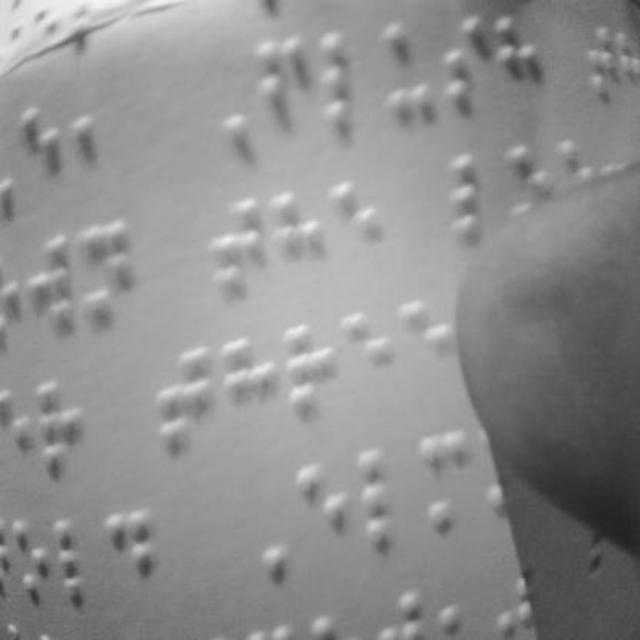braiile: (72, 62, 128, 192), (105, 501, 165, 619), (21, 222, 81, 338), (83, 208, 141, 328), (52, 364, 112, 480), (270, 181, 326, 299), (359, 443, 419, 552), (159, 342, 217, 454), (1, 498, 56, 616), (332, 172, 386, 292), (254, 28, 310, 142), (282, 322, 342, 428), (424, 428, 480, 540), (222, 326, 274, 446), (451, 140, 511, 244), (212, 186, 266, 298), (292, 452, 346, 564), (381, 20, 437, 126), (320, 27, 376, 131), (440, 12, 492, 118), (344, 303, 394, 413), (16, 96, 68, 200), (53, 507, 105, 611), (494, 9, 542, 109), (3, 376, 49, 480)
